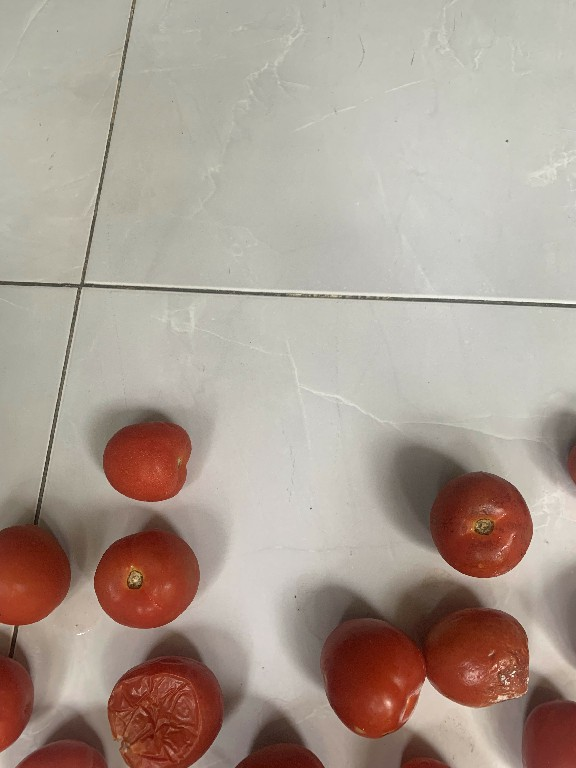NG: (98, 651, 225, 767), (416, 598, 534, 707)
OK: (316, 605, 426, 744), (428, 466, 540, 584), (95, 525, 200, 629), (96, 419, 196, 502), (0, 512, 69, 632)
